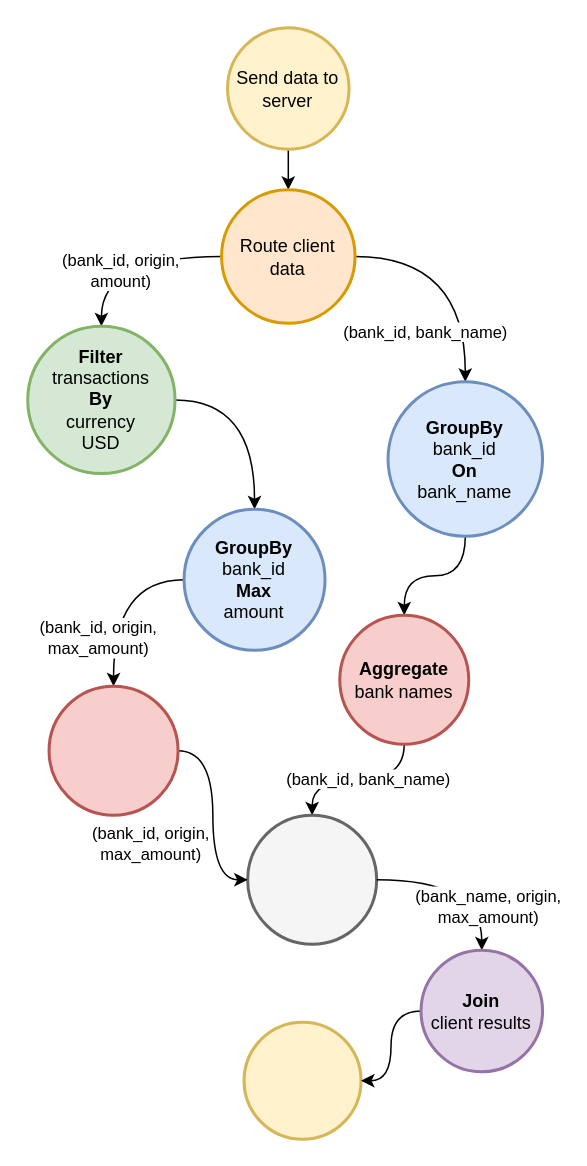
Some shapes in this 587 by 1166 pixel diagram are drawn without their labels. The shapes that lost their labels are listed below. From the top down, each one's centre as x and y in pixels, then its label:
At point 113,750: "Aggregate max amounts".
At point 311,879: "Merge On bank_id".
At point 302,1080: "Send UC2 response to client".
